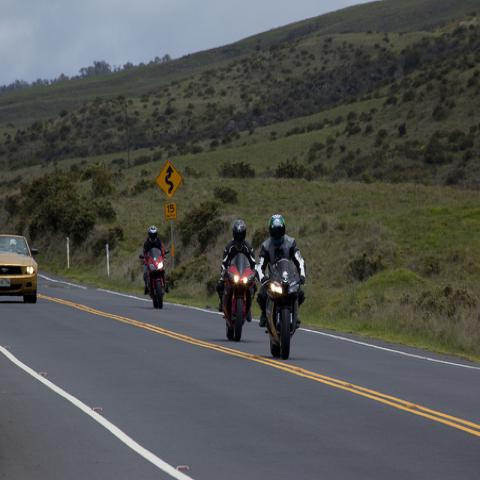car: (0, 235, 39, 304)
motorcycle: (263, 258, 301, 360), (222, 252, 256, 343), (140, 249, 169, 310)
